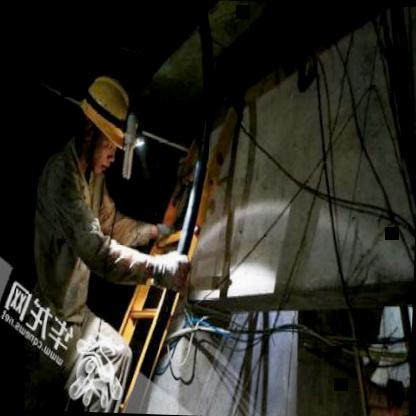helmet: (70, 63, 136, 189)
